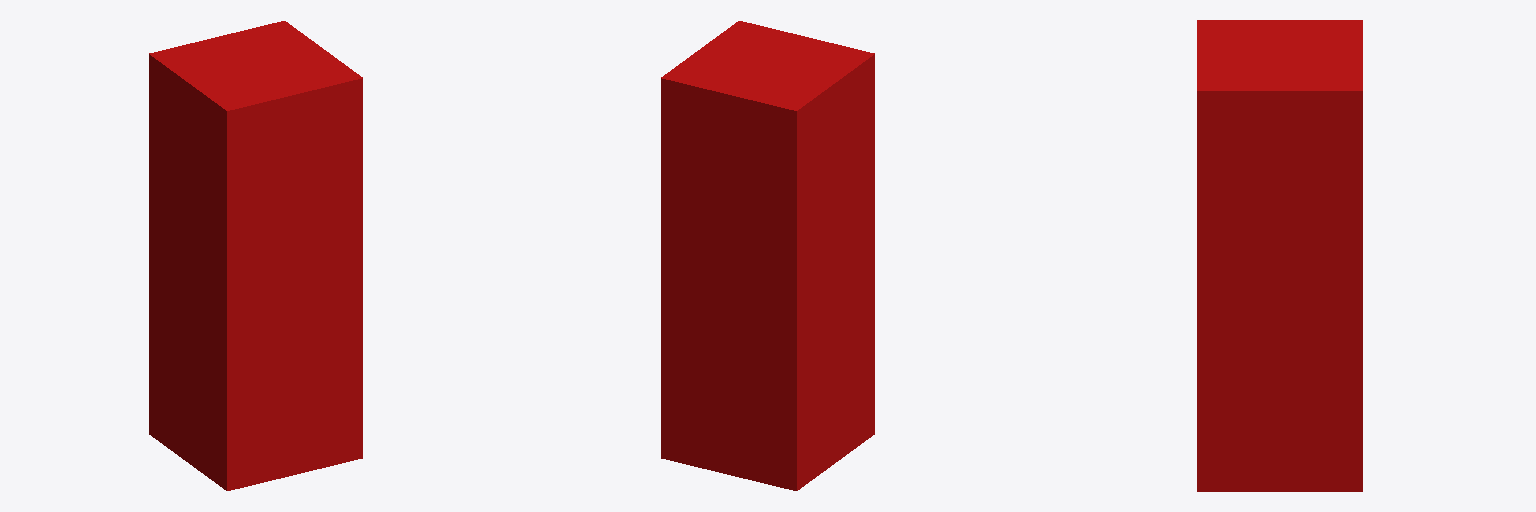
URDF robot description (simple_cuboid2):
<?xml version="1.0"?>
<robot name="simple_cuboid2">
  <link name="base_link">
    <inertial>
      <origin xyz="0 0 0" rpy="0 0 0" />
      <mass value="0.1" />
      <!-- <inertia ixx="0.000363" ixy="0" ixz="0" iyy="0.000363" iyz="0"
          izz="0.00006" /> -->
      <inertia ixx="0.000360" ixy="0" ixz="0" iyy="0.0000615" iyz="0"
          izz="0.00036" />
    </inertial>
    <visual>
      <origin xyz="0 0 0" rpy="0 0 0" />
      <geometry>
        <box size="0.06 0.06 0.16" />
      </geometry>
      <material name="red">
        <color rgba="0.8 0.1 0.1 0.9" />
      </material>
    </visual>

    <!--
      This places contact spheres on the corners of the visual box and a
      *slightly* smaller inset contact box (centered on the visual origin). This
      accounts for issues in the contact computation providing stable table
      contact *and* supports grasping.

      When the box is in stable contact with the ground plane, the corner
      spheres will provide fixed contact points (simulating distributed contact
      points around the face).  However, for arbitrary grip configuration, the
      slightly inset box will provide contact with a *slight* offset (in this
      case a deviation of 0.0005 m from the visual surface).

      https://github.com/RobotLocomotion/drake/issues/6254 tracks the
      difficulty in supporting face-to-face contact.
     -->
    <collision>
      <geometry>
        <box size="0.059 0.059 0.179" />
      </geometry>
    </collision>

    <collision>
      <origin xyz="-0.03 -0.03 -0.09" rpy="0 0 0"/>
      <geometry>
        <sphere radius="1e-7"/>
      </geometry>
    </collision>
    <collision>
      <origin xyz="-0.03 0.03 -0.09" rpy="0 0 0"/>
      <geometry>
        <sphere radius="1e-7"/>
      </geometry>
    </collision>
    <collision>
      <origin xyz="0.03 0.03 -0.09" rpy="0 0 0"/>
      <geometry>
        <sphere radius="1e-7"/>
      </geometry>
    </collision>
    <collision>
      <origin xyz="0.03 -0.03 -0.09" rpy="0 0 0"/>
      <geometry>
        <sphere radius="1e-7"/>
      </geometry>
    </collision>

    <collision>
      <origin xyz="-0.03 -0.03 0.09" rpy="0 0 0"/>
      <geometry>
        <sphere radius="1e-7"/>
      </geometry>
    </collision>
    <collision>
      <origin xyz="-0.03 0.03 0.09" rpy="0 0 0"/>
      <geometry>
        <sphere radius="1e-7"/>
      </geometry>
    </collision>
    <collision>
      <origin xyz="0.03 0.03 0.09" rpy="0 0 0"/>
      <geometry>
        <sphere radius="1e-7"/>
      </geometry>
    </collision>
    <collision>
      <origin xyz="0.03 -0.03 0.09" rpy="0 0 0"/>
      <geometry>
        <sphere radius="1e-7"/>
      </geometry>
    </collision>

   </link>
</robot>

--- What the picture shows (computed from the rendered views, not written in the file) ---
The picture shows the robot from 3 angles, left to right: view 1: azimuth 30°, elevation 25°; view 2: azimuth 150°, elevation 25°; view 3: azimuth 270°, elevation 25°; orthographic projection.
Model simple_cuboid2 with 1 links and 0 joints (none), rooted at base_link, posed every joint at zero.
Visible links, largest first — view 1: base_link; view 2: base_link; view 3: base_link.
Link boxes in pixels (x1,y1,x2,y2): base_link: [149, 21, 362, 490]; base_link: [661, 21, 874, 490]; base_link: [1197, 20, 1362, 491].
Bounding box of the posed robot: 0.06 × 0.06 × 0.16 m (x, y, z).
Geometry: primitives only (box / cylinder / sphere), no mesh files.